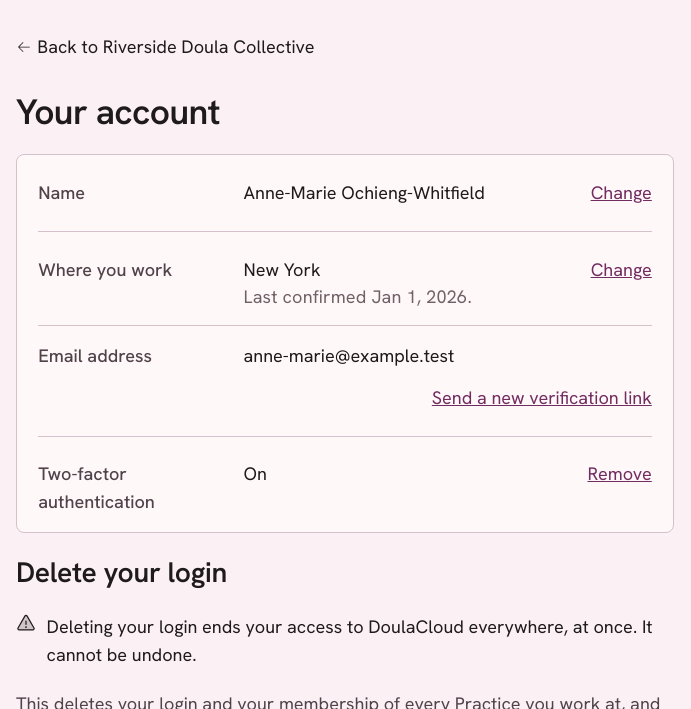
it: removing a second factor (#606) › shows a DELETE refusal as a service failure and sends her back to the step-up
Click the button "Remove" at (620, 474), box [588,452,652,496]
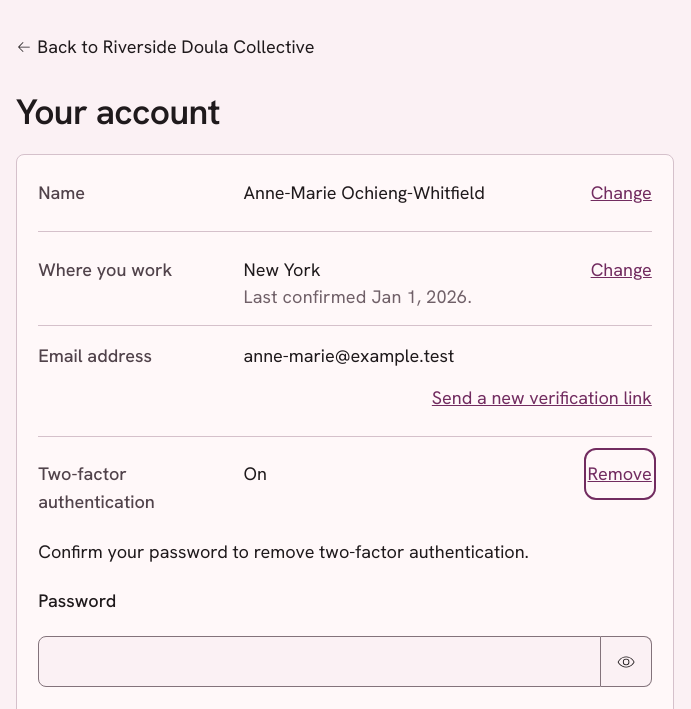
Check: the password field labelled "Password" is shown
Type "correct horse" into the password field labelled "Password" at (319, 662), box [38,636,601,687]
(page scrolled)
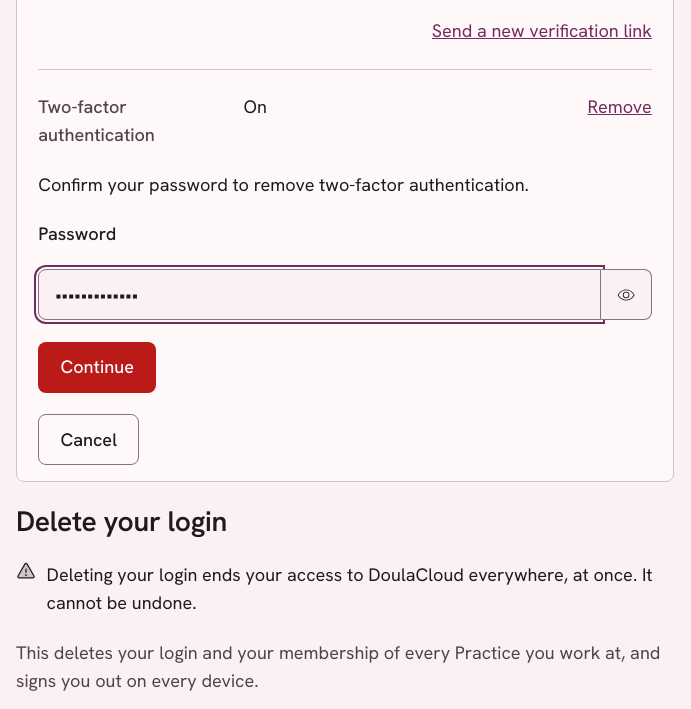
Click the button "Continue" at (97, 367), box [38,342,156,393]
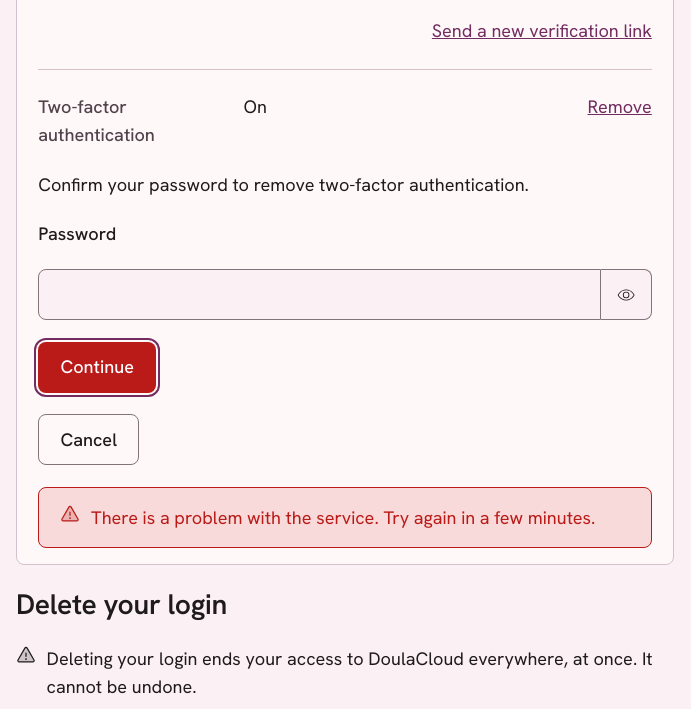
Check: the password field labelled "Password" is shown, box [38,269,601,320]
Check: the message "There is a problem with the service. Try again in a few minutes." is shown, box [38,487,652,548]
